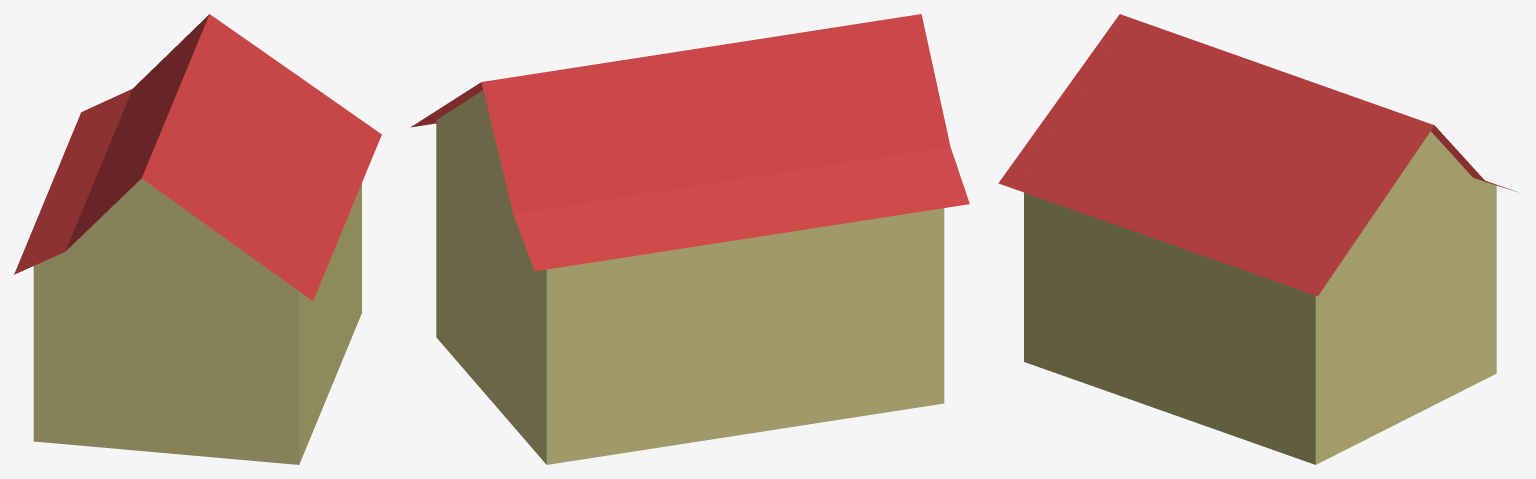
3 views of the same model, side by side, from view 1: azimuth 30°, elevation 25°; view 2: azimuth 150°, elevation 25°; view 3: azimuth 270°, elevation 25° (orthographic). The views are drawn at different scales.
Size of the model in its own units: 21.18 by 22 by 13.51.
